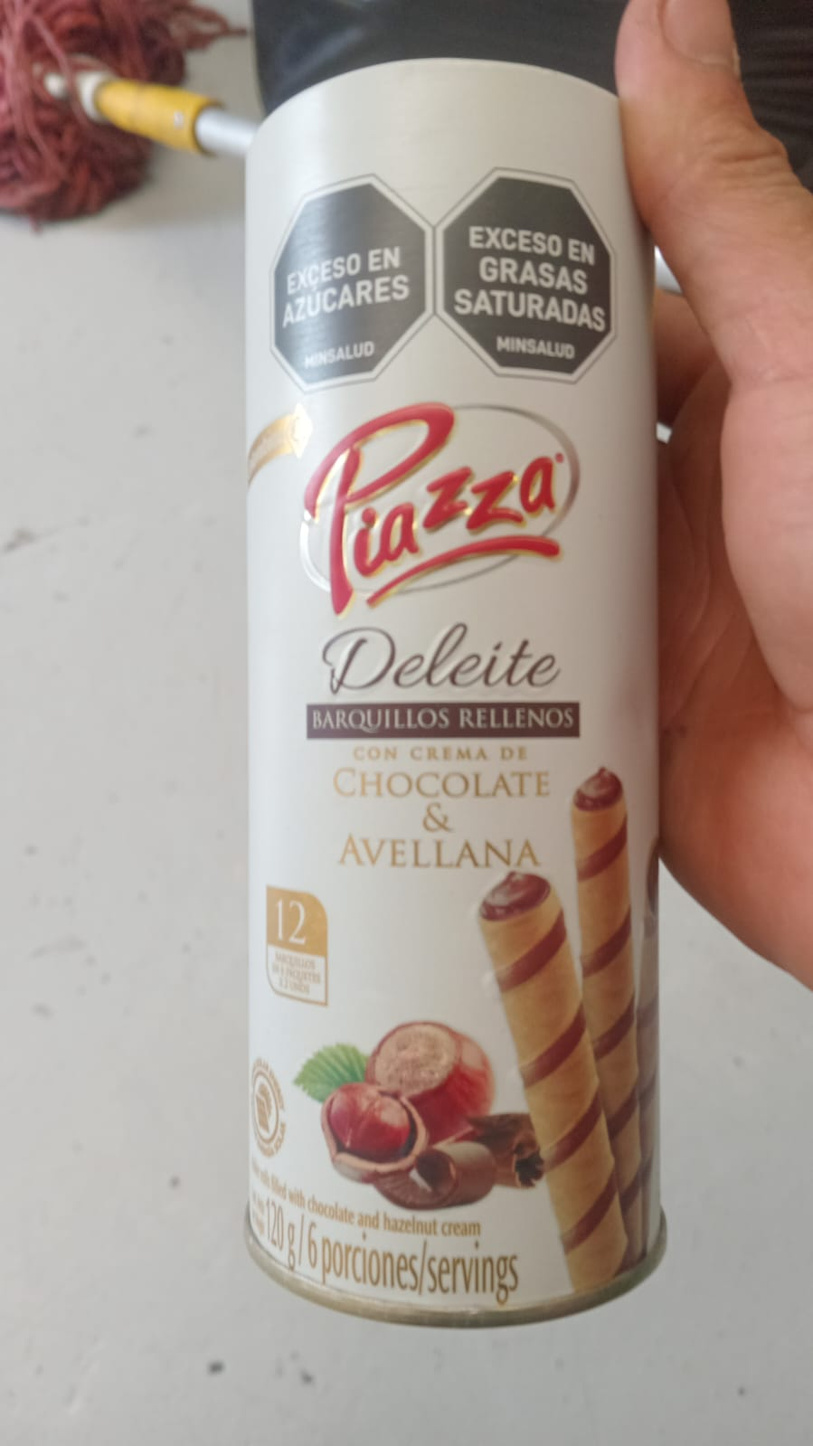Carton: (244, 56, 659, 1325)
